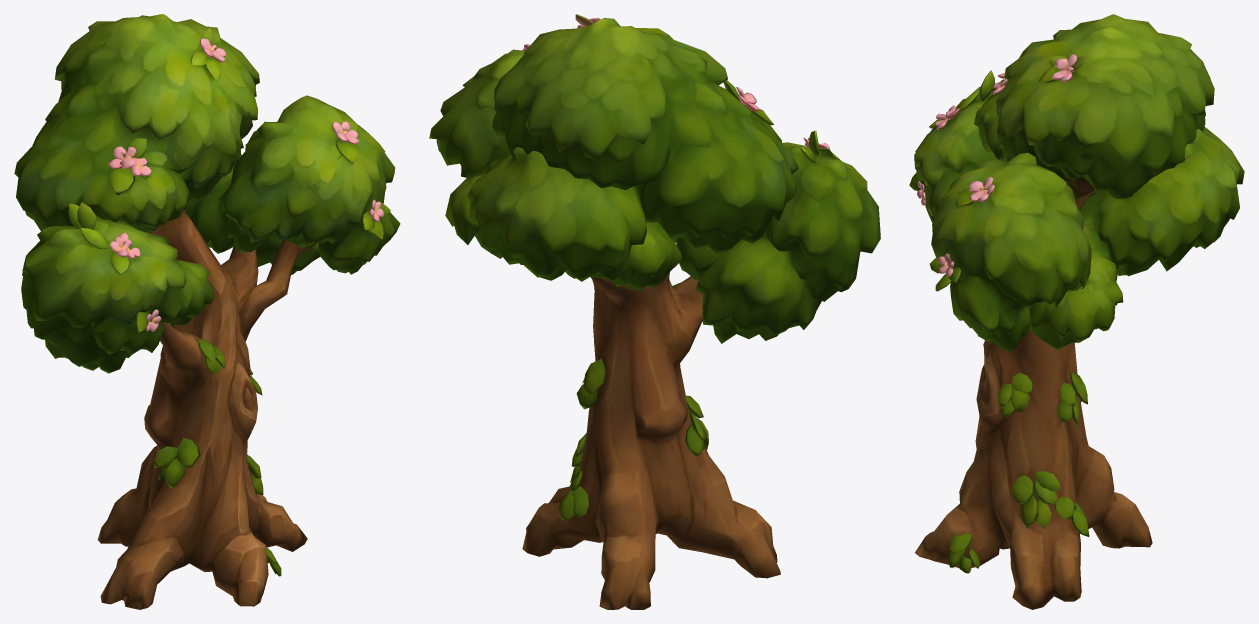
File: jardin_grand_arbre.glb
The picture shows the model from 3 angles, left to right: view 1: azimuth 30°, elevation 25°; view 2: azimuth 150°, elevation 25°; view 3: azimuth 270°, elevation 25°; orthographic projection. The views are drawn at different scales.
Visible parts, largest first — view 1: geometry_0; view 2: geometry_0; view 3: geometry_0.
Part boxes in pixels (x1,y1,x2,y2): geometry_0: [14, 14, 400, 609]; geometry_0: [429, 14, 880, 609]; geometry_0: [909, 14, 1244, 609].
Bounding box in the file's own units: 0.7134 × 0.9536 × 0.5464.
1 material, 1 textured.
